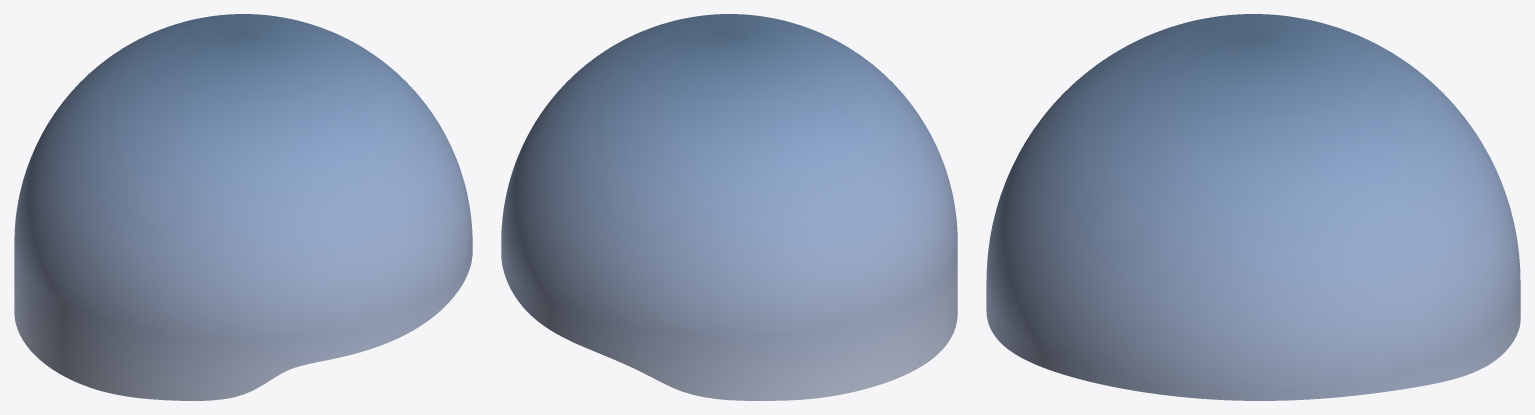
File: zipup_sky.obj
3 renders of one model, left to right at view 1: azimuth 30°, elevation 25°; view 2: azimuth 150°, elevation 25°; view 3: azimuth 270°, elevation 25°, orthographic. The views are drawn at different scales.
Bounding box in the file's own units: 2400 × 1621 × 2400.
1 material, 1 textured.
